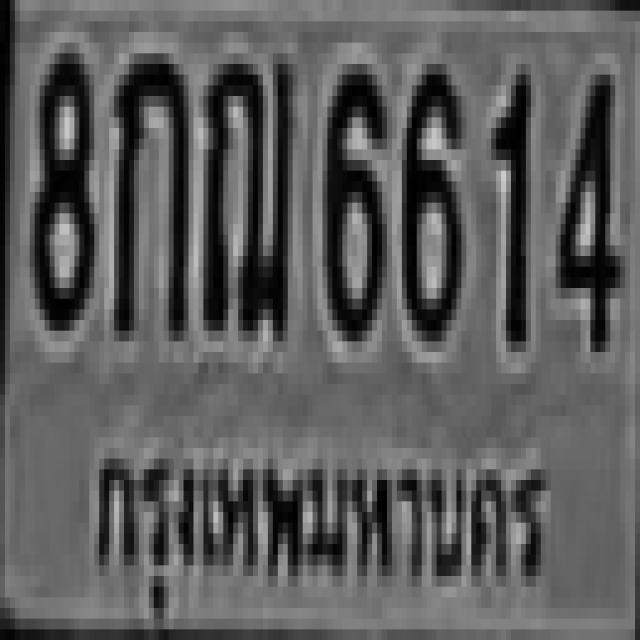1: (491, 64, 526, 341)
10GorGai: (109, 42, 184, 330)
21ChorChoe: (198, 42, 293, 330)
4: (556, 64, 615, 341)
6: (399, 53, 459, 331), (322, 53, 382, 331)
8: (30, 43, 89, 320)
Bangkok: (88, 429, 547, 640)
